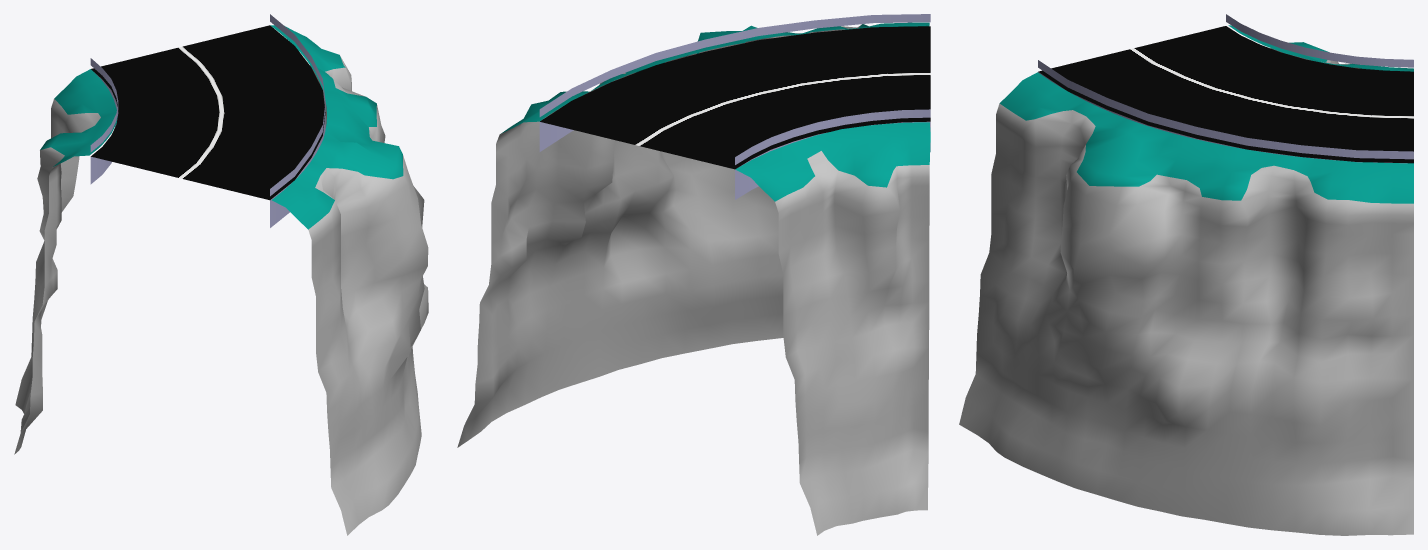
The picture shows the model from 3 angles, left to right: view 1: azimuth 30°, elevation 25°; view 2: azimuth 150°, elevation 25°; view 3: azimuth 270°, elevation 25°; orthographic projection. The views are drawn at different scales.
Visible parts, largest first — view 1: cliff_2, Mesh, cliff_1, pylon, guardRail_2, guardRail_1; view 2: cliff_2, cliff_1, Mesh, guardRail_2, guardRail_1, pylon; view 3: cliff_2, Mesh, guardRail_2, guardRail_1, cliff_1.
Boxes of the visible parts, bbox=[...] form: cliff_2: bbox=[270, 25, 428, 535]; Mesh: bbox=[91, 25, 325, 200]; cliff_1: bbox=[14, 69, 117, 454]; pylon: bbox=[90, 69, 325, 227]; guardRail_2: bbox=[270, 14, 325, 196]; guardRail_1: bbox=[90, 58, 118, 152]; cliff_2: bbox=[457, 22, 929, 447]; cliff_1: bbox=[735, 122, 930, 535]; Mesh: bbox=[540, 26, 930, 169]; guardRail_2: bbox=[539, 14, 930, 116]; guardRail_1: bbox=[735, 109, 930, 164]; pylon: bbox=[539, 121, 930, 199]; cliff_2: bbox=[959, 72, 1413, 535]; Mesh: bbox=[1038, 26, 1413, 163]; guardRail_2: bbox=[1038, 60, 1413, 159]; guardRail_1: bbox=[1226, 14, 1413, 67]; cliff_1: bbox=[1228, 25, 1413, 71].
Bounding box in the file's own units: 21.35 × 17.56 × 20.96.
